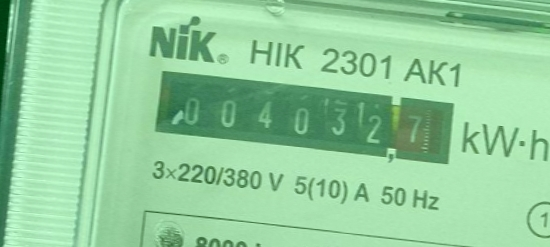0: (217, 94, 240, 129), (182, 90, 204, 125), (291, 101, 313, 135)
2: (365, 109, 386, 144)
3: (329, 102, 350, 136)
4: (254, 94, 278, 132)
7: (406, 110, 426, 144)
screen: (144, 59, 465, 175)
